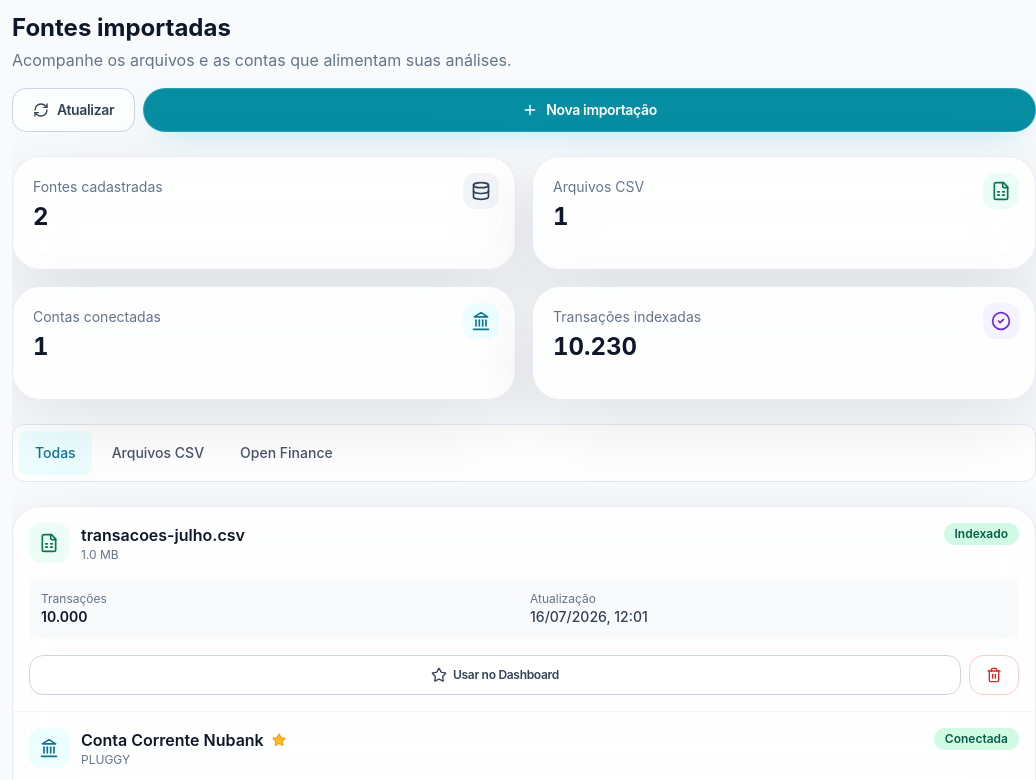
it: ImportSourcesPage › filtra somente os arquivos CSV
What coordinates should you click on to do the following:
click the tab "Arquivos CSV"
I would click on:
 (158, 453)
Its box is [96,431,220,475].
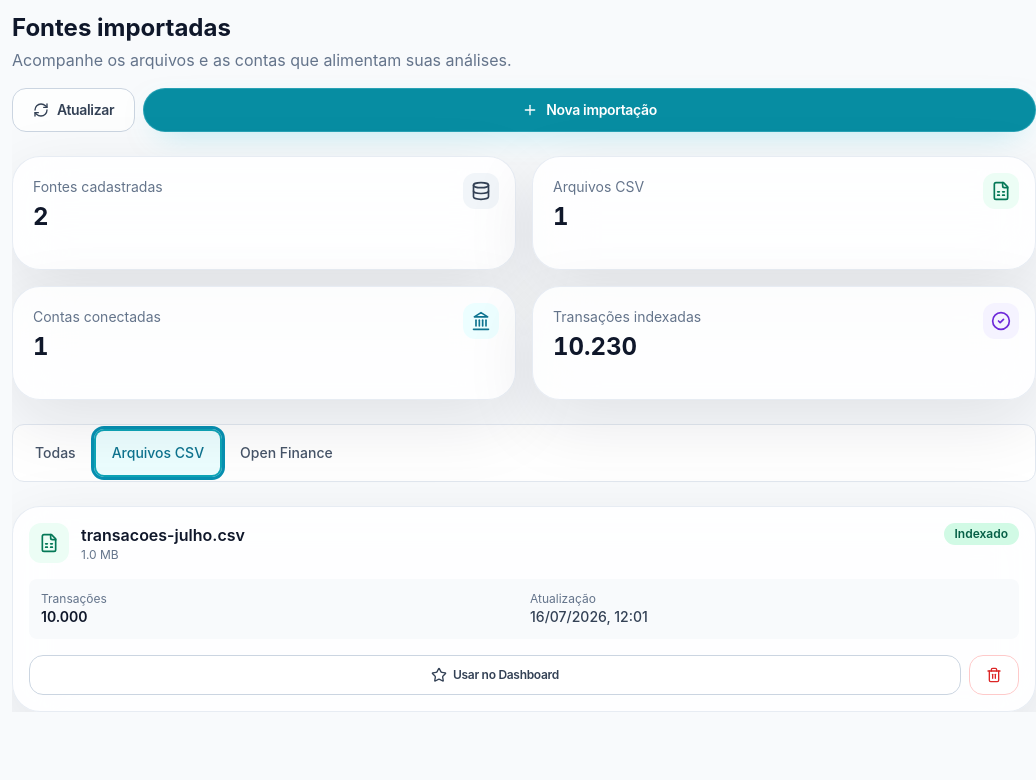
Expected: the text "Conta Corrente Nubank" is gone
